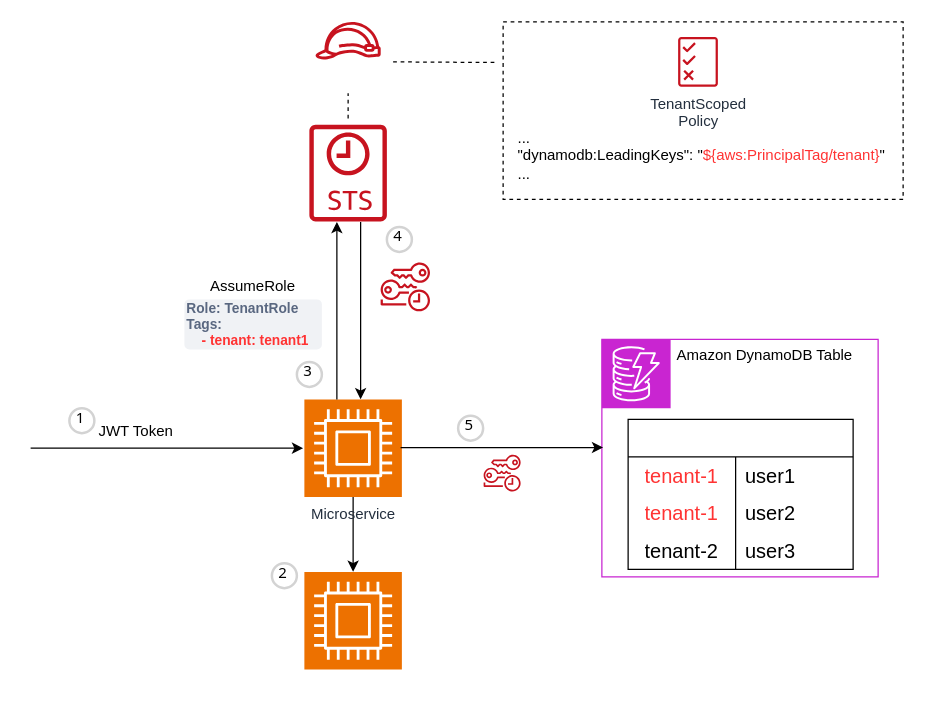
The diagram is 925 pixels wide and 718 high, and some of its shapes have lost their labels. The shapes that lost their labels are listed below. From the top down, each one's box as (x1, y1, x2, y2) in pixels, then its label:
(314, 21, 381, 59): TenantRole
(380, 261, 429, 311): Scoped Credentials
(627, 418, 853, 569): users
(303, 571, 402, 669): JWT Token Manager
